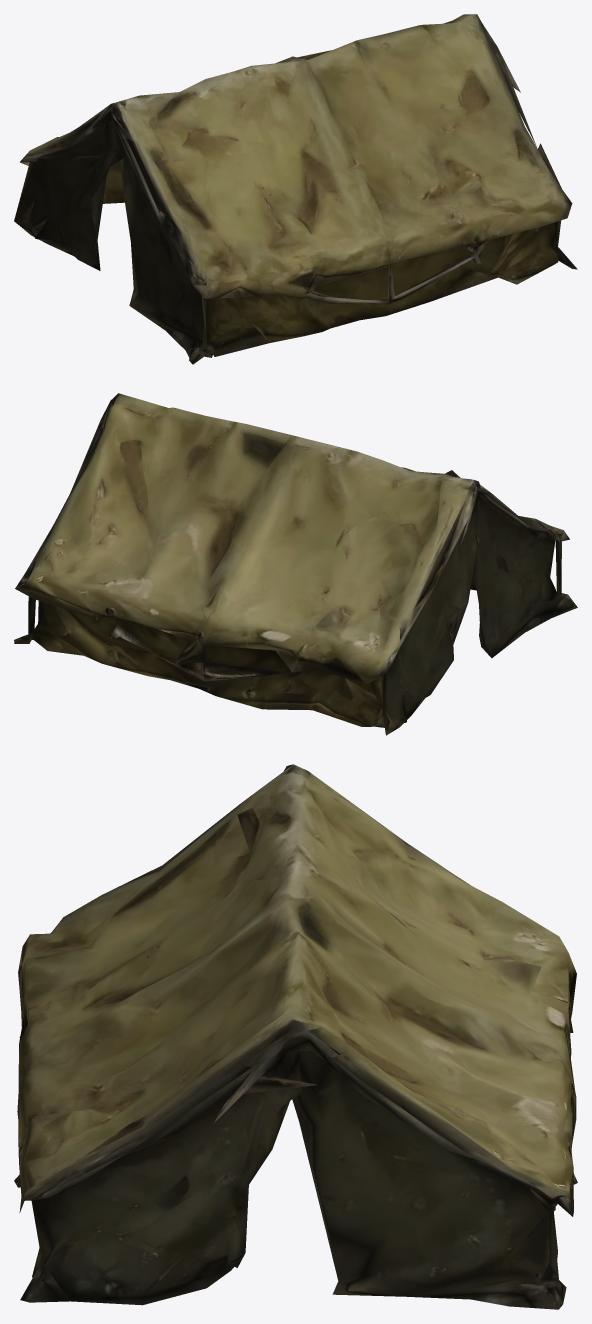
Rendered from e_tent.glb.
3 renders of one model, top to bottom at view 1: azimuth 30°, elevation 25°; view 2: azimuth 150°, elevation 25°; view 3: azimuth 270°, elevation 25°, orthographic. The views are drawn at different scales.
Visible parts, largest first — view 1: tripo_node_d3e4932e-6b4e-4723-b83c-65ba4a519522; view 2: tripo_node_d3e4932e-6b4e-4723-b83c-65ba4a519522; view 3: tripo_node_d3e4932e-6b4e-4723-b83c-65ba4a519522.
Boxes of the visible parts, left/top/right/bottom form: tripo_node_d3e4932e-6b4e-4723-b83c-65ba4a519522: left=14, top=14, right=577, bottom=364; tripo_node_d3e4932e-6b4e-4723-b83c-65ba4a519522: left=14, top=393, right=577, bottom=735; tripo_node_d3e4932e-6b4e-4723-b83c-65ba4a519522: left=14, top=764, right=577, bottom=1309.
Size of the model in its own units: 1 by 0.4844 by 0.8526.
1 material, 1 textured.
